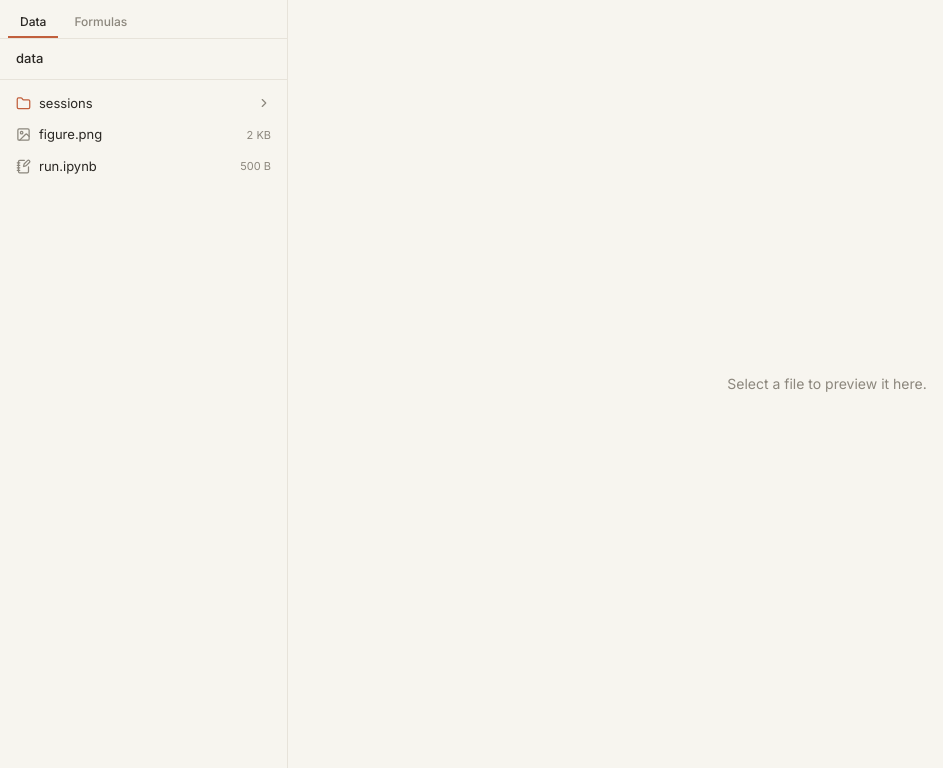
Test: FilesPage › switches to the formulas library
This screenshot has width=943, height=768.
Expected: the text "figure.png" is shown, [39,126,102,142]
Click the button "Formulas": (101, 23) [62,8,139,38]
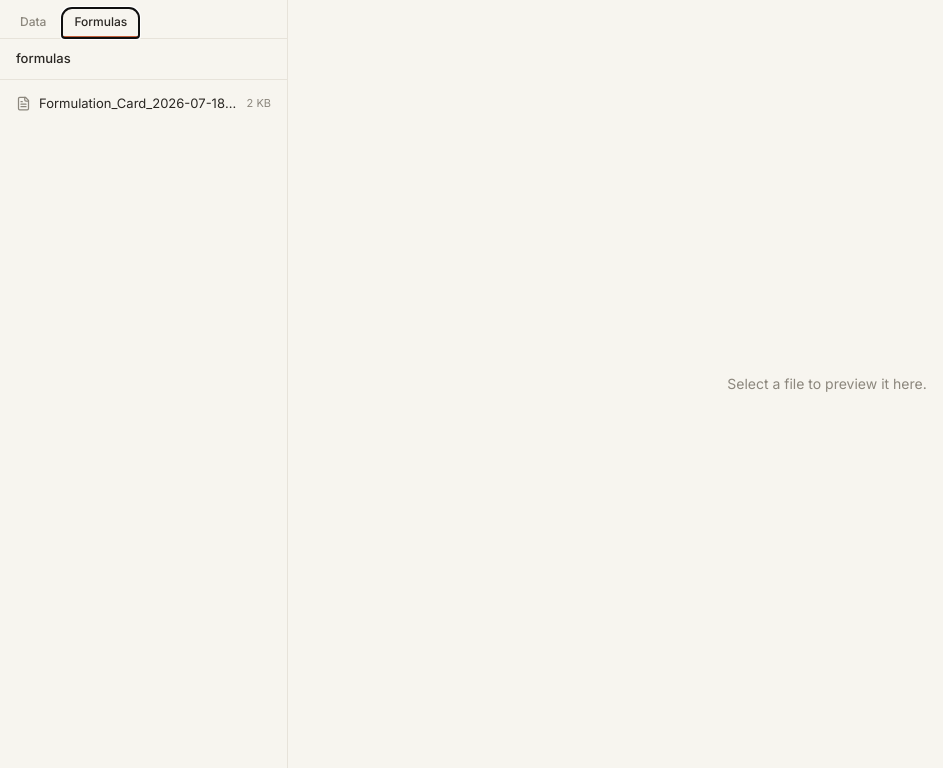
Result: the text "Formulation_Card_2026-07-18-1638-body-wash_v1.md" is shown at [39,94,239,113]
